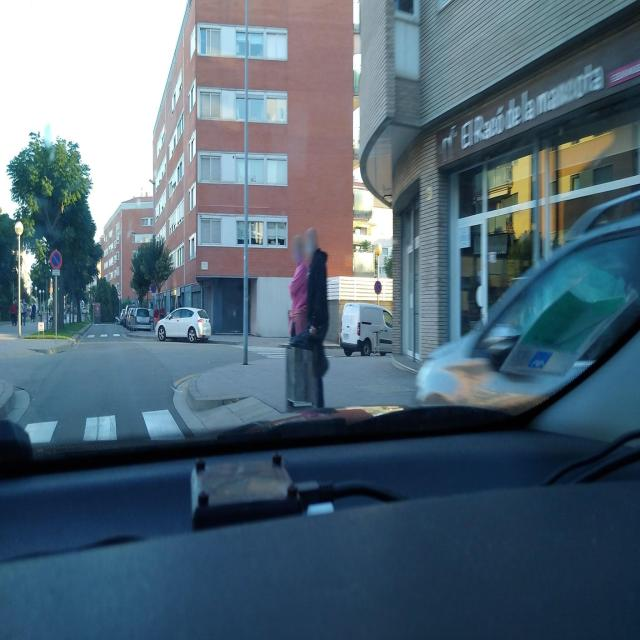forb_stopping: (50, 251, 62, 270), (375, 281, 382, 295), (151, 284, 156, 294)
